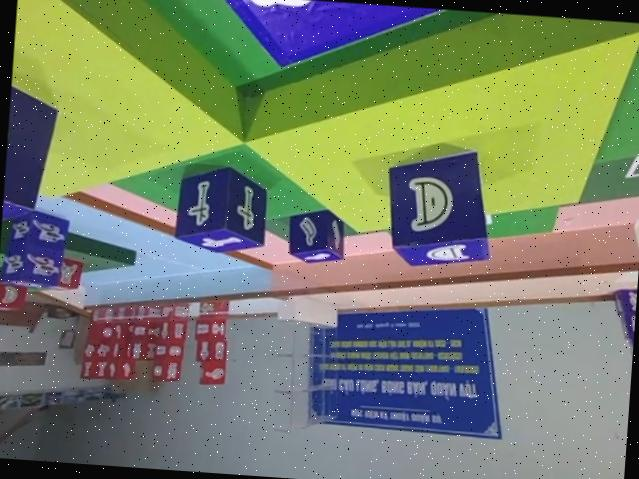R1 Blue: (0, 204, 72, 288)
R2 Real Blue: (382, 140, 498, 269), (0, 53, 61, 233), (172, 159, 270, 252), (284, 202, 346, 262)
